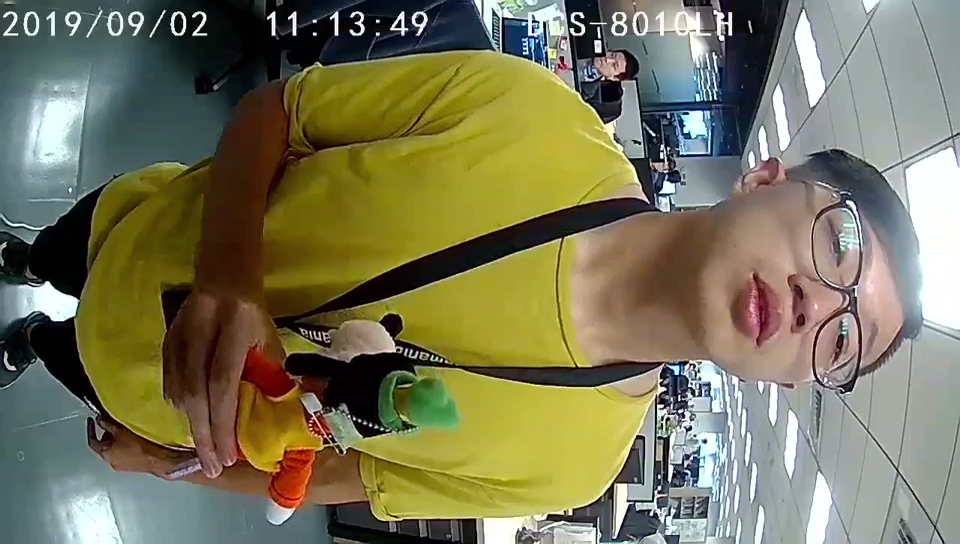goofy: (252, 336, 466, 527)
